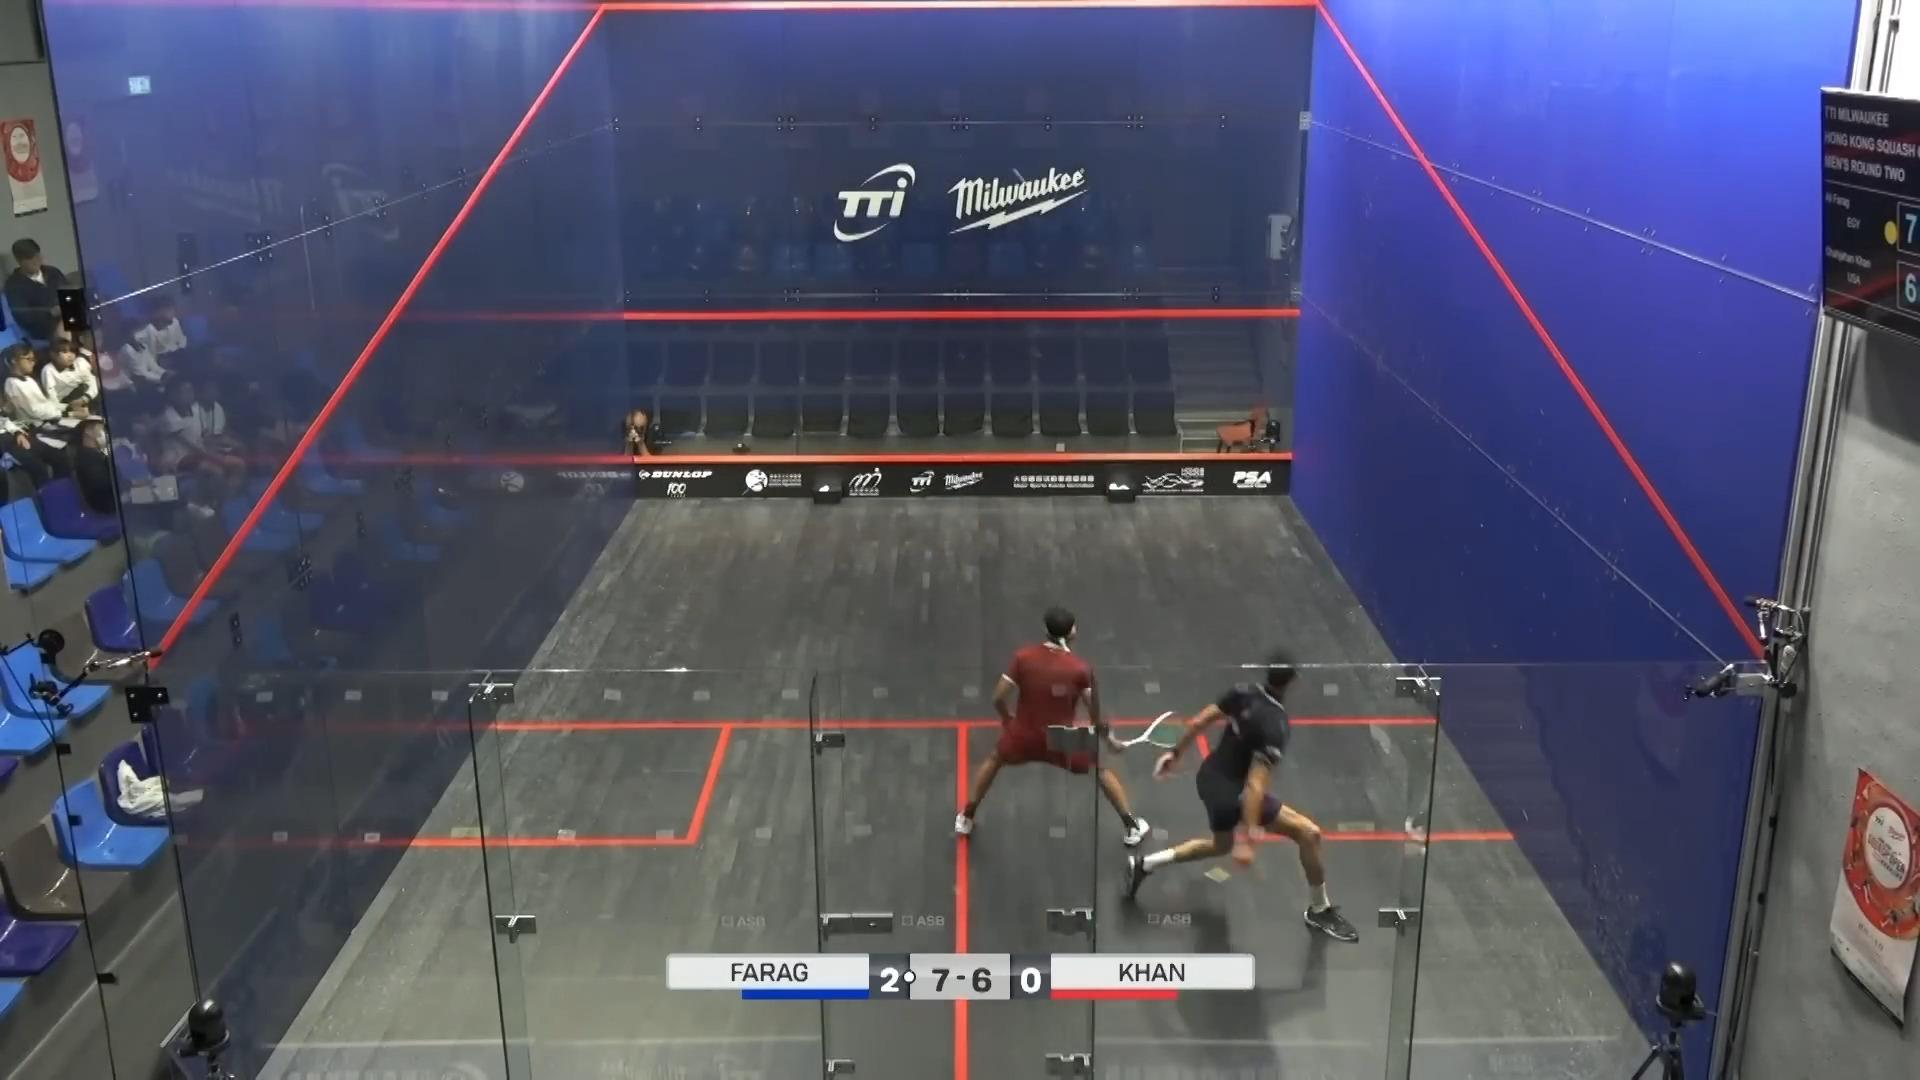Racket: (1101, 702, 1187, 750)
